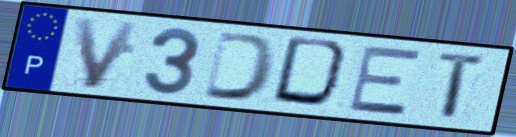3: (140, 25, 202, 97)
D: (267, 34, 357, 112), (199, 29, 281, 104)
E: (346, 45, 424, 118)
T: (434, 49, 490, 123)
V: (71, 15, 144, 91)
